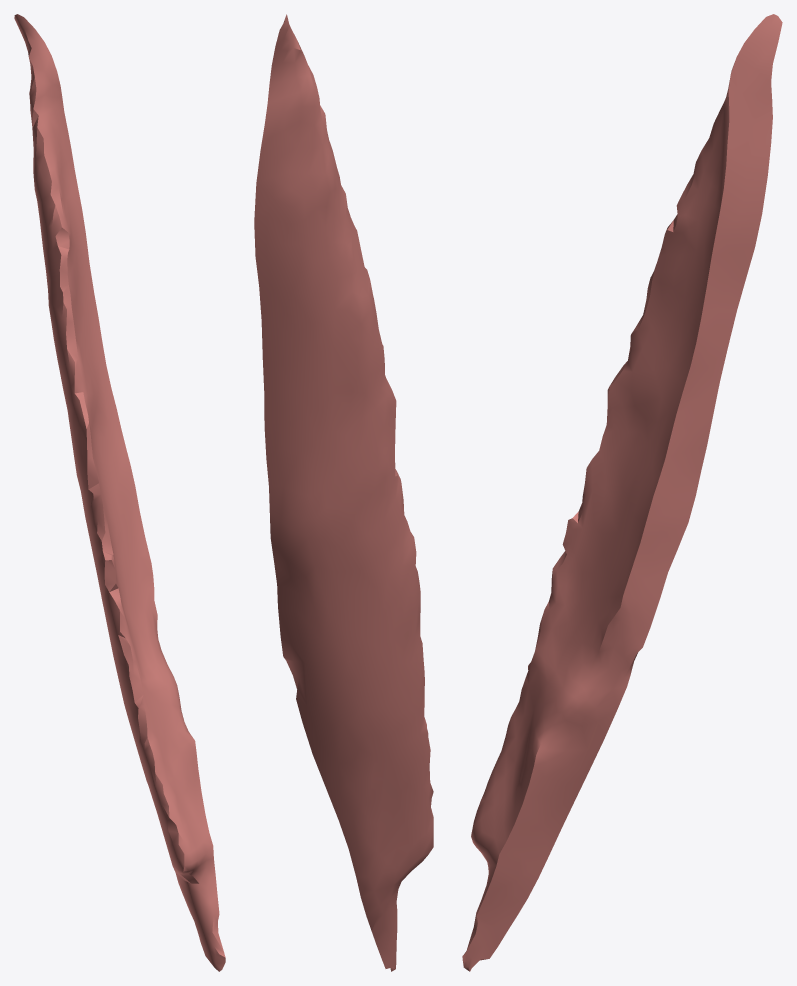
File: fma298181_mm1864m.glb
3 views of the same model, side by side, from view 1: azimuth 30°, elevation 25°; view 2: azimuth 150°, elevation 25°; view 3: azimuth 270°, elevation 25° (orthographic). The views are drawn at different scales.
Visible parts, largest first — view 1: FMA298181_MM1864M; view 2: FMA298181_MM1864M; view 3: FMA298181_MM1864M.
Boxes of the visible parts, x1,y1,x2,y2 form: FMA298181_MM1864M: [14, 14, 225, 971]; FMA298181_MM1864M: [254, 14, 433, 971]; FMA298181_MM1864M: [462, 14, 782, 971].
Size of the model in its own units: 0.0122 by 0.1241 by 0.0388.
